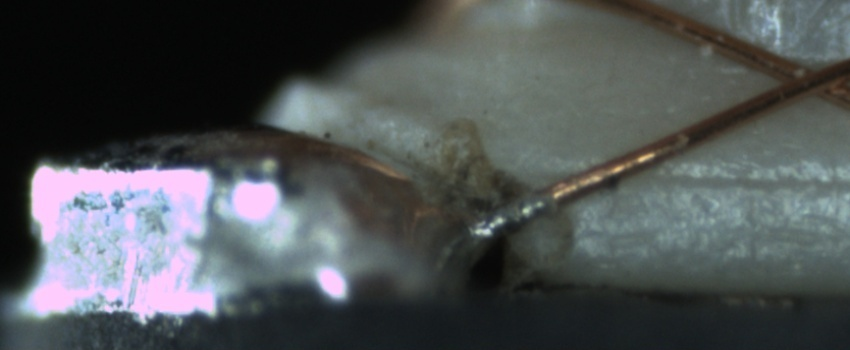CL: (758, 50, 846, 106)
DL: (613, 145, 844, 214)
TS: (468, 189, 546, 244)
